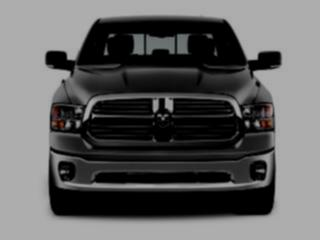ram: (151, 109, 178, 130)
